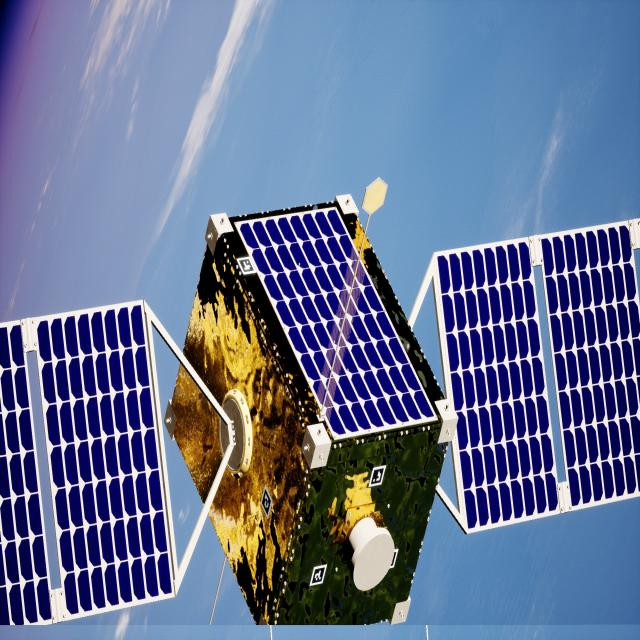medium_debris: (0, 195, 640, 630)
